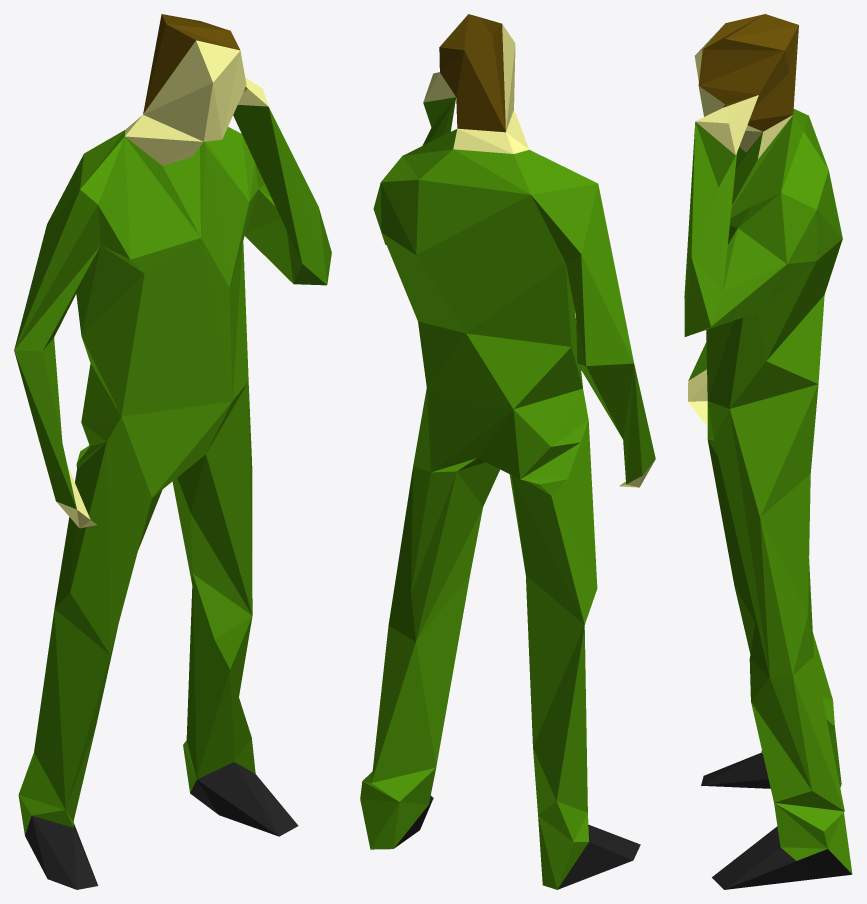
Rendered from low_poly_man.dae.
3 views of the same model, side by side, from view 1: azimuth 30°, elevation 25°; view 2: azimuth 150°, elevation 25°; view 3: azimuth 270°, elevation 25° (orthographic). The views are drawn at different scales.
Parts seen in each view (by area): view 1: instance_1 (×6); view 2: instance_1 (×4); view 3: instance_1 (×7).
Boxes of the visible parts, x1=… form: instance_1 (×6): x1=14, y1=14, x2=331, y2=889; instance_1 (×4): x1=360, y1=14, x2=655, y2=889; instance_1 (×7): x1=684, y1=14, x2=852, y2=889.
Bounding box in the file's own units: 23.97 × 12.07 × 65.04.
